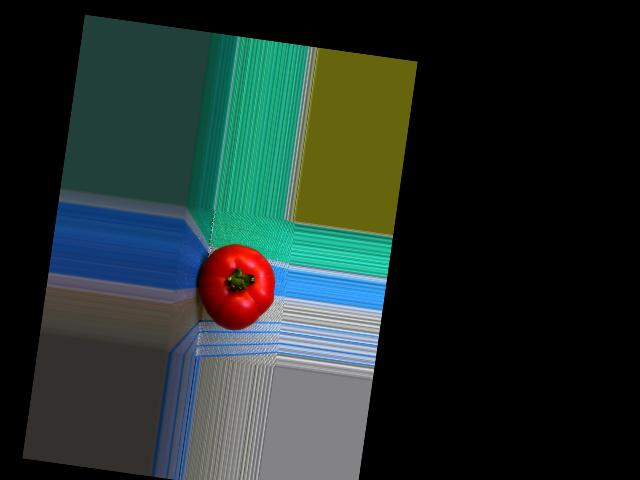tomato: (191, 239, 280, 334)
